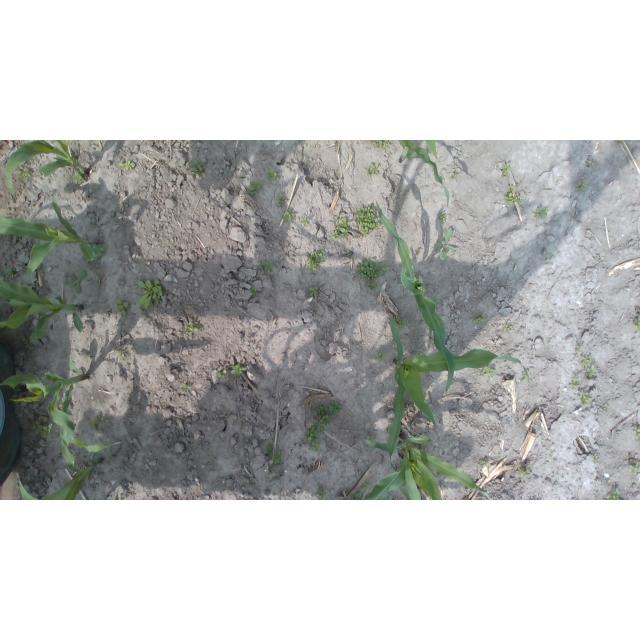Maize: (387, 317, 531, 457), (375, 200, 455, 393), (0, 354, 120, 449), (18, 385, 102, 500), (360, 432, 486, 500), (1, 195, 96, 275), (1, 275, 84, 337), (5, 140, 88, 194), (398, 140, 450, 208)
Weeds: (301, 399, 344, 451), (355, 257, 387, 291), (355, 203, 381, 237), (136, 279, 163, 309), (434, 228, 456, 260), (331, 214, 350, 239), (307, 248, 325, 274), (504, 186, 524, 206), (580, 356, 597, 379), (32, 419, 53, 437), (70, 271, 87, 293), (265, 445, 284, 464), (183, 320, 203, 336), (247, 180, 265, 197), (257, 260, 276, 275), (190, 159, 204, 178), (115, 300, 130, 317), (274, 192, 289, 208), (577, 391, 591, 408), (281, 209, 296, 224), (392, 315, 408, 329), (264, 168, 281, 181), (482, 363, 497, 377), (91, 243, 105, 258), (72, 171, 85, 186), (231, 364, 245, 377), (374, 350, 388, 363), (605, 488, 619, 501), (367, 140, 389, 148), (16, 169, 32, 179), (576, 180, 589, 192), (87, 416, 98, 430), (316, 486, 327, 500), (5, 269, 19, 280), (518, 464, 530, 476), (367, 163, 379, 175), (536, 208, 548, 220), (120, 161, 136, 170), (216, 366, 227, 378), (628, 462, 640, 473), (475, 314, 487, 324), (502, 164, 511, 177), (351, 492, 365, 500), (571, 379, 582, 389), (634, 316, 640, 333), (299, 218, 309, 227), (310, 288, 319, 297), (592, 454, 601, 463), (440, 212, 447, 223), (502, 324, 510, 333), (431, 296, 439, 305), (604, 404, 612, 412), (481, 460, 489, 468), (361, 484, 368, 493), (251, 287, 257, 297), (365, 435, 375, 441), (184, 385, 191, 393), (636, 428, 640, 441), (119, 353, 126, 360), (523, 375, 530, 382), (96, 415, 104, 421), (450, 173, 456, 179), (616, 140, 624, 144), (578, 347, 582, 351)
